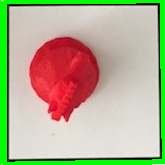Red Knight: (22, 34, 102, 126)
